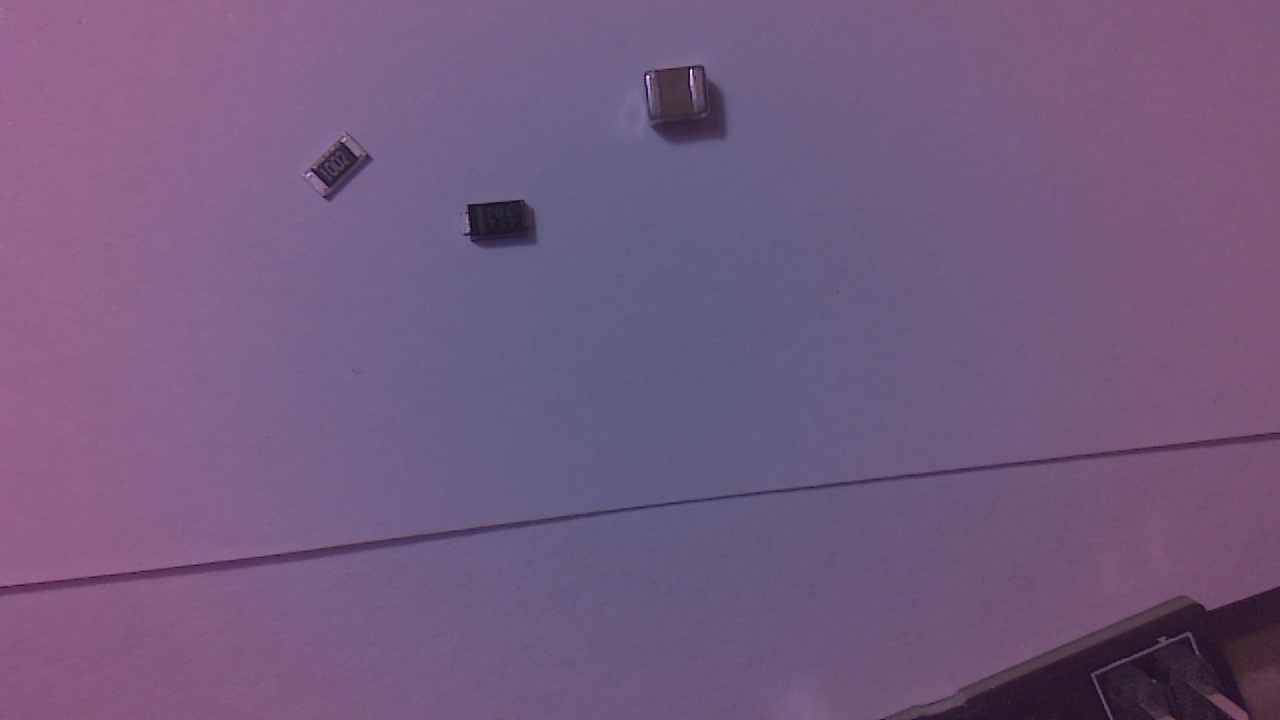Condensator: (643, 73, 715, 142)
Diode: (464, 205, 541, 250)
Resistor: (306, 139, 376, 206)
